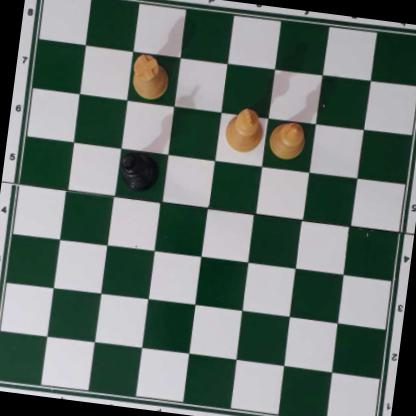black-king: (119, 148, 160, 191)
white-bishop: (267, 117, 307, 161)
white-king: (220, 106, 267, 153)
white-rook: (129, 52, 171, 98)
